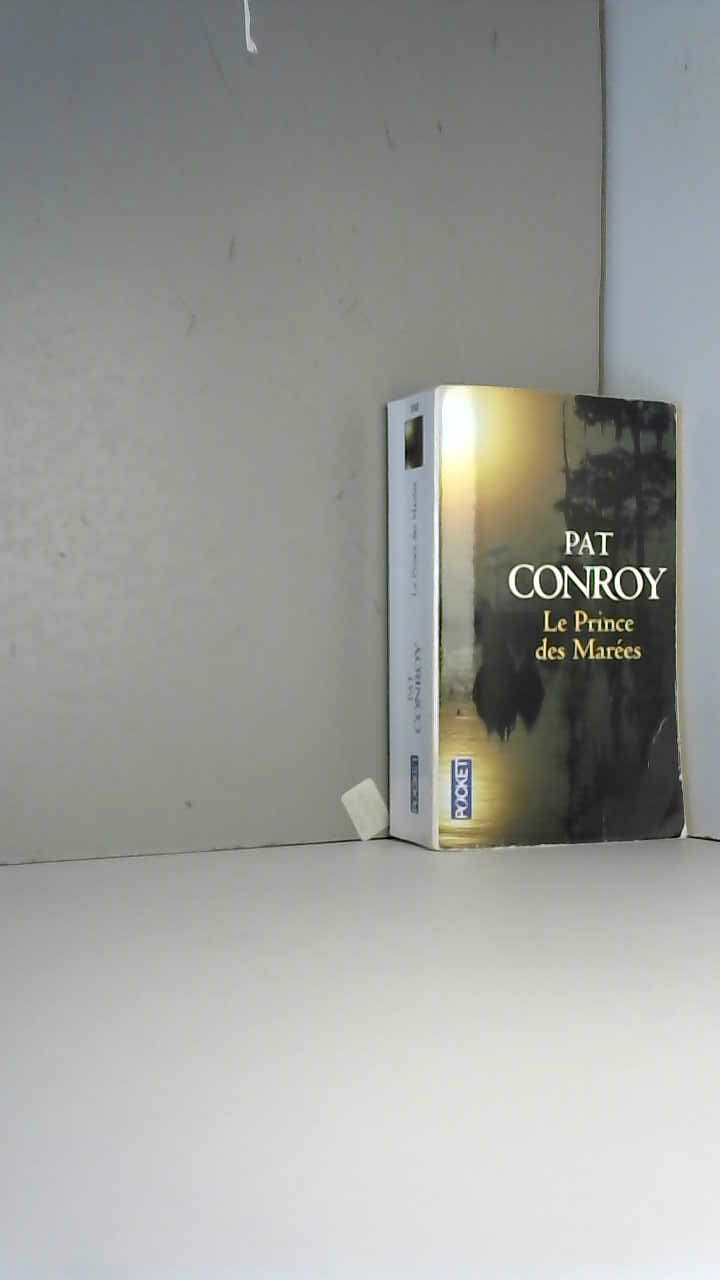book: (365, 370, 702, 867)
